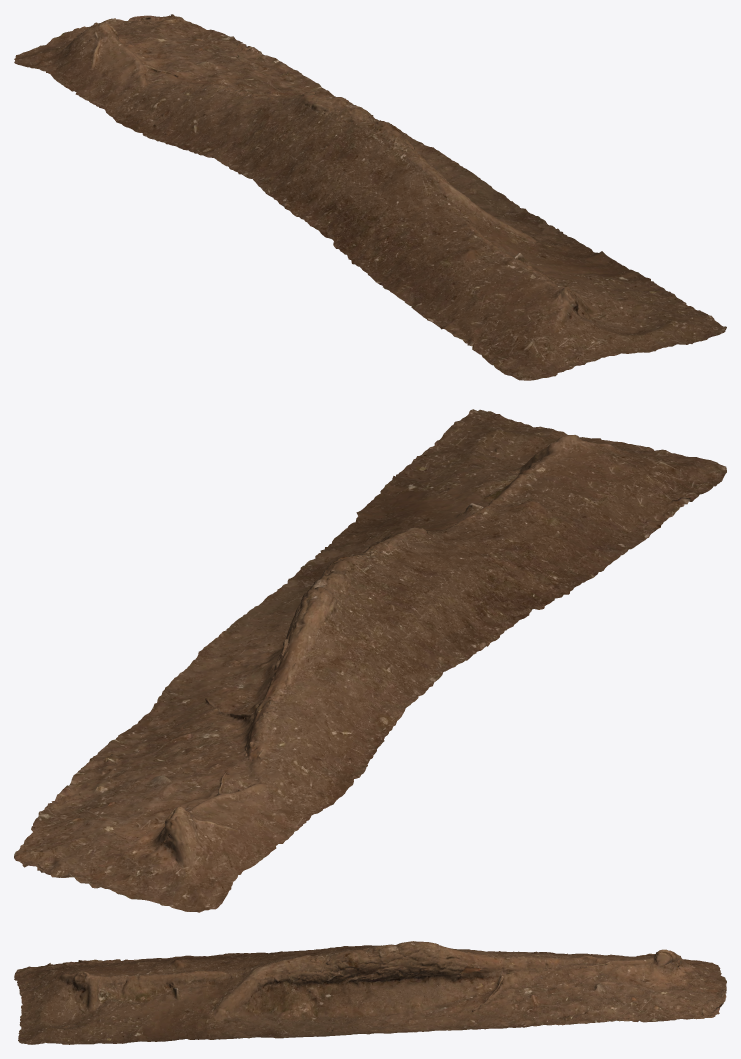
File: polyhaven-single-root.glb
3 views of the same model, one above another, from view 1: azimuth 30°, elevation 25°; view 2: azimuth 150°, elevation 25°; view 3: azimuth 270°, elevation 25° (orthographic). The views are drawn at different scales.
Parts seen in each view (by area): view 1: single_root_0; view 2: single_root_0; view 3: single_root_0.
Part boxes in pixels (<box>): single_root_0: <box>14,14,726,380</box>; single_root_0: <box>14,409,726,912</box>; single_root_0: <box>14,941,726,1044</box>.
Bounding box in the file's own units: 0.5552 × 0.178 × 1.84.
1 material, 1 textured.
